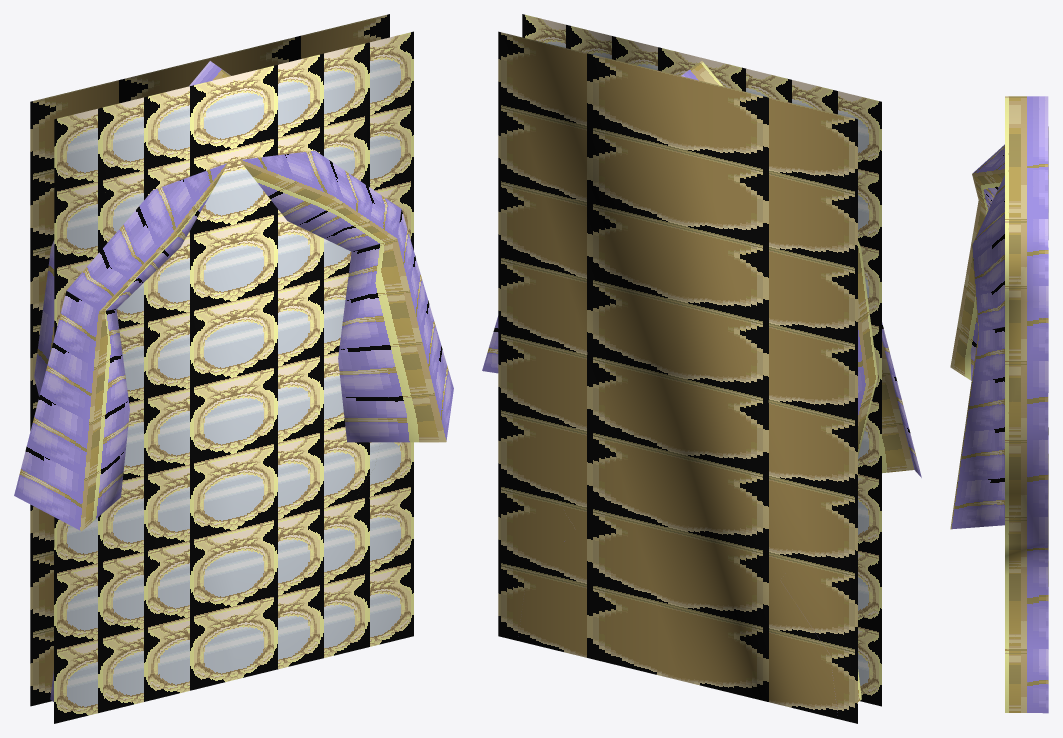
The model's file is 3442IMSY01_04.gltf.
The picture shows the model from 3 angles, left to right: view 1: azimuth 30°, elevation 25°; view 2: azimuth 150°, elevation 25°; view 3: azimuth 270°, elevation 25°; orthographic projection. The views are drawn at different scales.
Parts seen in each view (by area): view 1: 3442IMSY01_04; view 2: 3442IMSY01_04; view 3: 3442IMSY01_04.
Boxes of the visible parts, x1,y1,x2,y2 form: 3442IMSY01_04: (14,14,453,723); 3442IMSY01_04: (482,14,921,723); 3442IMSY01_04: (950,96,1048,713).
Size of the model in its own units: 0.8838 by 1.16 by 0.1877.
Materials: 3 (3 with a texture image).
